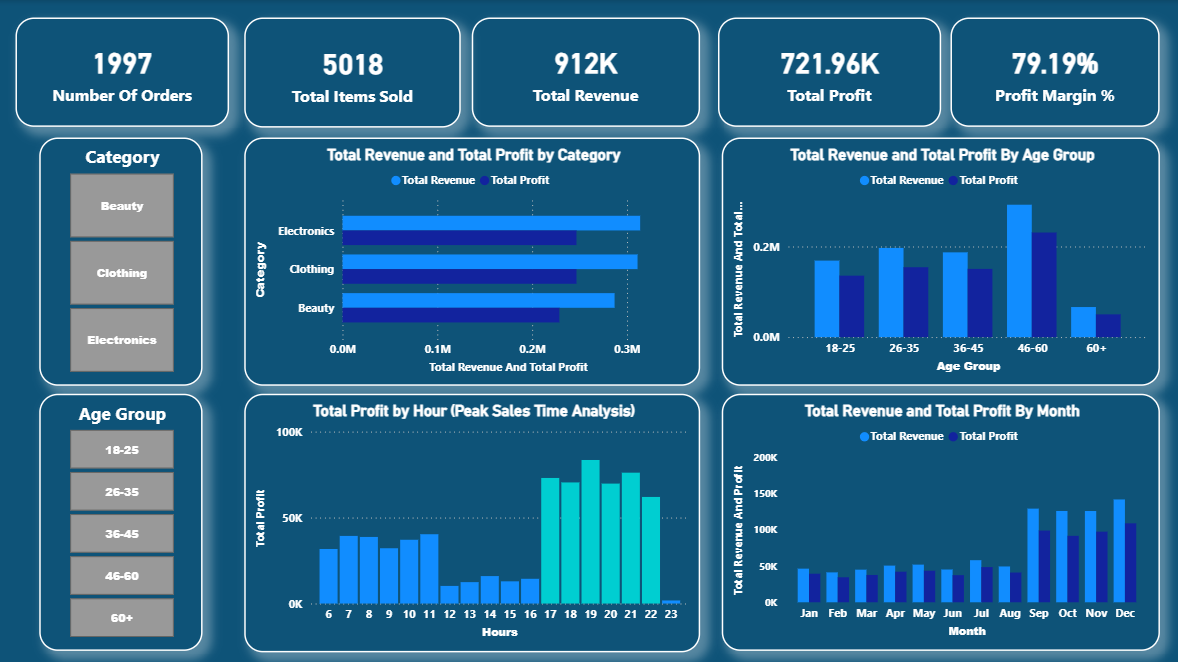

This screenshot's page, from the dashboard's own definition file:
{"tool":"powerbi","page":{"name":"Page 1","canvas":[1280,720],"ordinal":0},"visuals":[{"type":"card","fields":{"Values":["public retail_sales.Total Transactions"]},"box":[18.8,18.8,231.2,118.2],"z":0},{"type":"card","fields":{"Values":["public retail_sales.Total Revenue"]},"box":[513.2,19.2,247,118],"z":1000},{"type":"card","fields":{"Values":["public retail_sales.Total Profit"]},"box":[779.4,19.2,241.5,118],"z":2000},{"type":"card","fields":{"Values":["public retail_sales.Profit Margin %"]},"box":[1031.9,19.2,226.4,118],"z":3000},{"type":"card","fields":{"Values":["public retail_sales.Total Units"]},"box":[266.2,19.2,234.6,119.4],"z":4000},{"type":"clusteredBarChart","fields":{"Category":["public retail_sales.category"],"Y":["public retail_sales.Total Revenue","public retail_sales.Total Profit"]},"box":[266.2,148.2,494,269],"z":5000},{"type":"slicer","title":"Category","fields":{"Values":["public retail_sales.category"]},"box":[45.3,148.2,177,269],"z":6000},{"type":"clusteredColumnChart","title":"Total Revenue and Total Profit By Age Group","fields":{"Category":["public retail_sales.Age Bucket"],"Y":["public retail_sales.Total Revenue","public retail_sales.Total Profit"]},"box":[783.5,148.2,474.8,269],"z":7000},{"type":"clusteredColumnChart","title":"Total Profit by Hour (Peak Sales Time Analysis)","fields":{"Category":["public retail_sales.Hour Column"],"Y":["public retail_sales.Total Profit"]},"box":[266.2,426.8,494,279.9],"z":8000},{"type":"lineClusteredColumnComboChart","title":"Total Revenue and Total Profit By Month","fields":{"Y":["public retail_sales.Total Revenue","public retail_sales.Total Profit"],"Category":["public retail_sales.Month Name"]},"box":[783.5,426.8,474.8,278.6],"z":9000},{"type":"slicer","title":"Age Group","fields":{"Values":["public retail_sales.Age Bucket"]},"box":[45.3,426.8,177,278.6],"z":10000}]}

Visuals, with their boxes in screenshot pixels (x1, y1, x2, y2), scaled from the page's 1280x720 canvas onto the 1178x662 screenshot:
card - public retail_sales.Total Transactions: {"x1": 17, "y1": 17, "x2": 230, "y2": 126}
card - public retail_sales.Total Revenue: {"x1": 472, "y1": 18, "x2": 700, "y2": 126}
card - public retail_sales.Total Profit: {"x1": 717, "y1": 18, "x2": 940, "y2": 126}
card - public retail_sales.Profit Margin %: {"x1": 950, "y1": 18, "x2": 1158, "y2": 126}
card - public retail_sales.Total Units: {"x1": 245, "y1": 18, "x2": 461, "y2": 127}
clusteredBarChart - public retail_sales.category x public retail_sales.Total Revenue: {"x1": 245, "y1": 136, "x2": 700, "y2": 384}
"Category" slicer: {"x1": 42, "y1": 136, "x2": 205, "y2": 384}
"Total Revenue and Total Profit By Age Group" clusteredColumnChart: {"x1": 721, "y1": 136, "x2": 1158, "y2": 384}
"Total Profit by Hour (Peak Sales Time Analysis)" clusteredColumnChart: {"x1": 245, "y1": 392, "x2": 700, "y2": 650}
"Total Revenue and Total Profit By Month" lineClusteredColumnComboChart: {"x1": 721, "y1": 392, "x2": 1158, "y2": 649}
"Age Group" slicer: {"x1": 42, "y1": 392, "x2": 205, "y2": 649}
